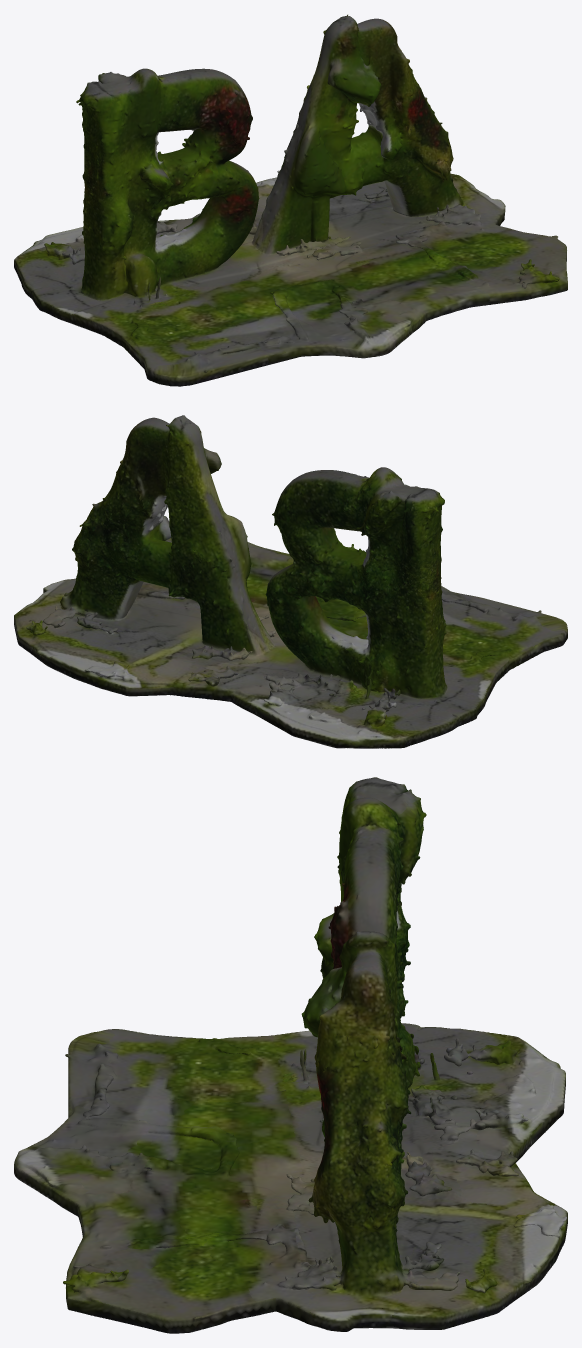
Rendered from letrasBA.glb.
The picture shows the model from 3 angles, top to bottom: view 1: azimuth 30°, elevation 25°; view 2: azimuth 150°, elevation 25°; view 3: azimuth 270°, elevation 25°; orthographic projection. The views are drawn at different scales.
Parts seen in each view (by area): view 1: tripo_node_e87296a9-6d0f-44d9-b0a6-fd622b293e60; view 2: tripo_node_e87296a9-6d0f-44d9-b0a6-fd622b293e60; view 3: tripo_node_e87296a9-6d0f-44d9-b0a6-fd622b293e60.
Boxes of the visible parts, left/top/right/bottom form: tripo_node_e87296a9-6d0f-44d9-b0a6-fd622b293e60: left=14, top=14, right=567, bottom=386; tripo_node_e87296a9-6d0f-44d9-b0a6-fd622b293e60: left=14, top=415, right=567, bottom=748; tripo_node_e87296a9-6d0f-44d9-b0a6-fd622b293e60: left=14, top=777, right=567, bottom=1333.
Bounding box in the file's own units: 1 × 0.497 × 0.7725.
1 material, 1 textured.
